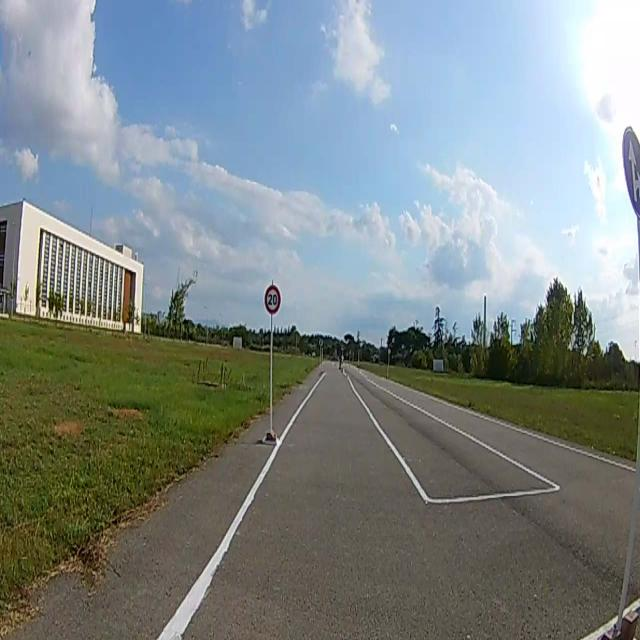20: (265, 285, 281, 311)
ilerisag: (622, 128, 640, 218)
